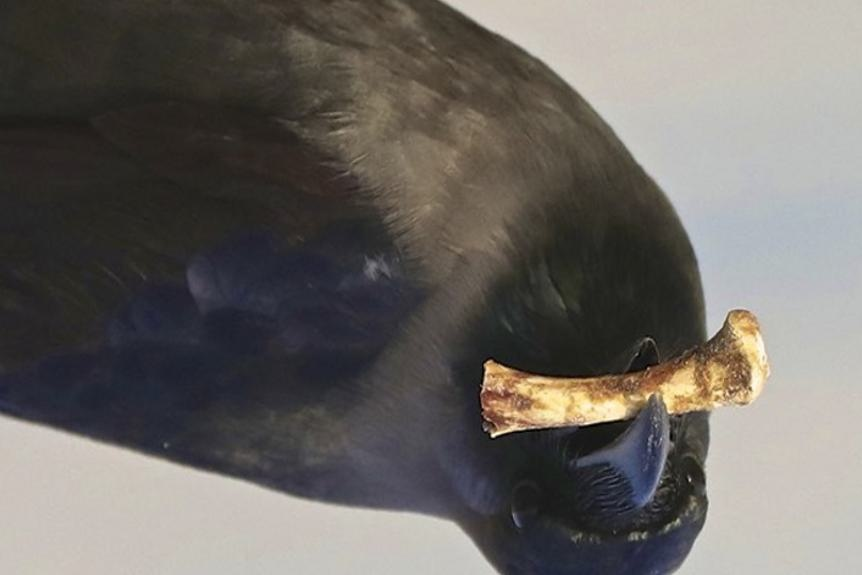crow: (1, 1, 737, 573)
